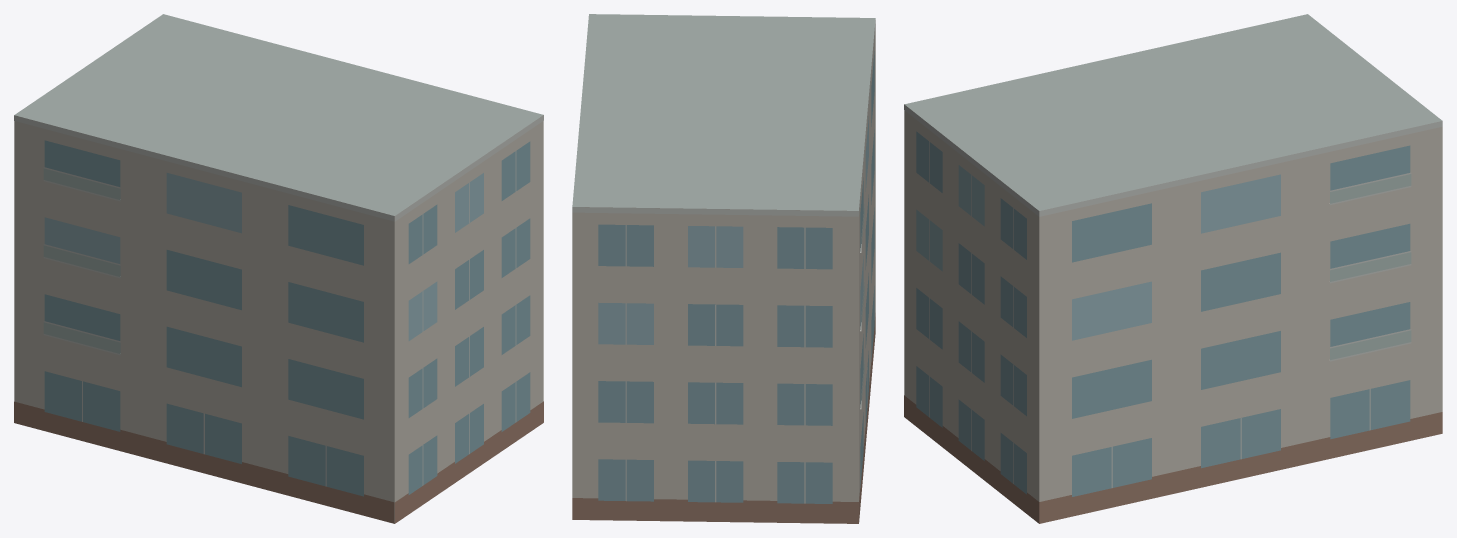
File: survey-upis-32986260.glb
3 views of the same model, side by side, from view 1: azimuth 30°, elevation 25°; view 2: azimuth 150°, elevation 25°; view 3: azimuth 270°, elevation 25° (orthographic).
Visible parts, largest first — view 1: survey-upis-32986260.tmp; view 2: survey-upis-32986260.tmp; view 3: survey-upis-32986260.tmp.
Part boxes in pixels (x1,y1,x2,y2): survey-upis-32986260.tmp: [14, 14, 543, 523]; survey-upis-32986260.tmp: [572, 14, 875, 523]; survey-upis-32986260.tmp: [904, 14, 1442, 523].
Bounding box in the file's own units: 17.92 × 13.25 × 20.68.
